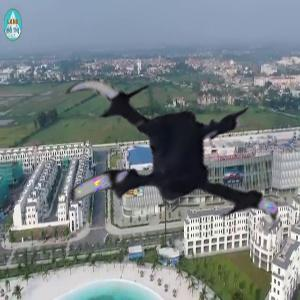drone: (34, 43, 286, 295)
